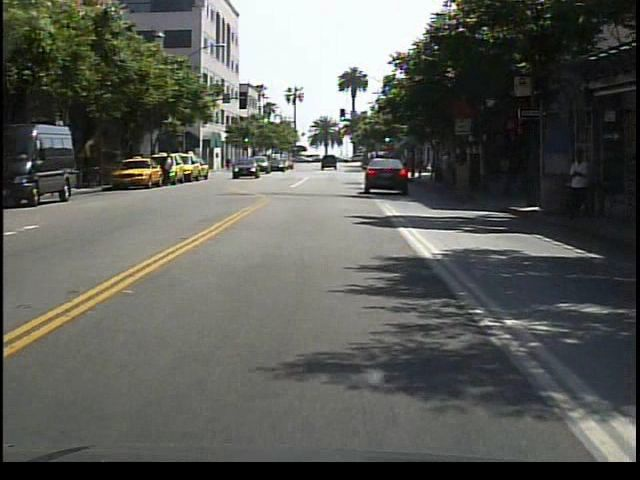person: (561, 145, 597, 227), (161, 152, 177, 190)
